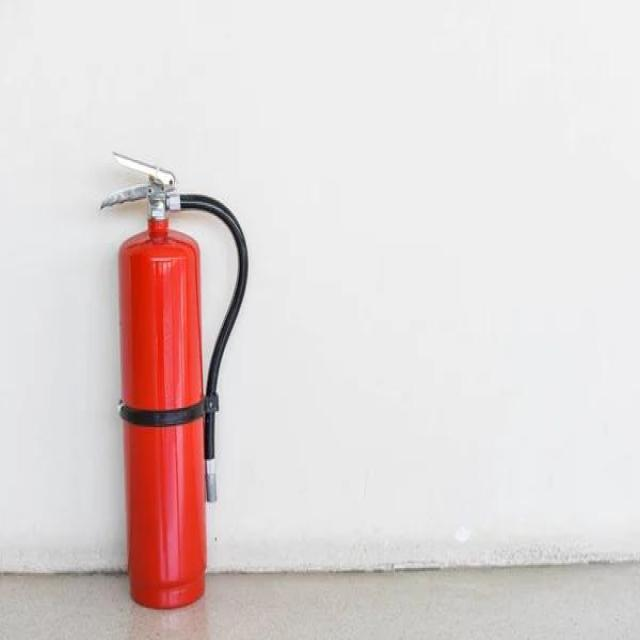FireExtinguisher: (97, 148, 249, 618)
